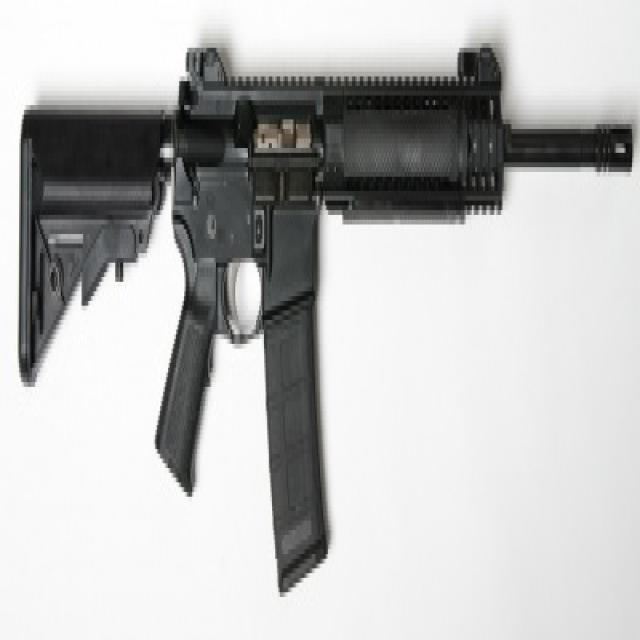rifle: (12, 27, 634, 629)
